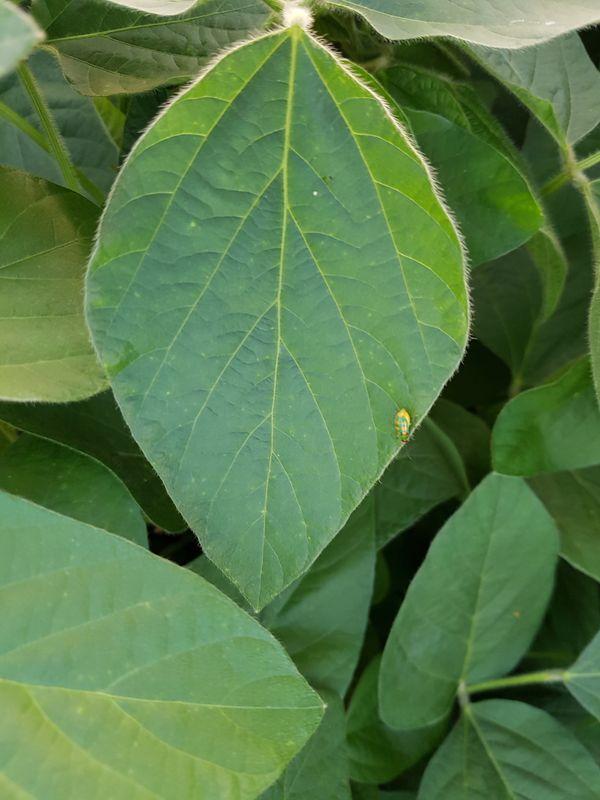Diabrotica_speciosa: (384, 403, 423, 448)
